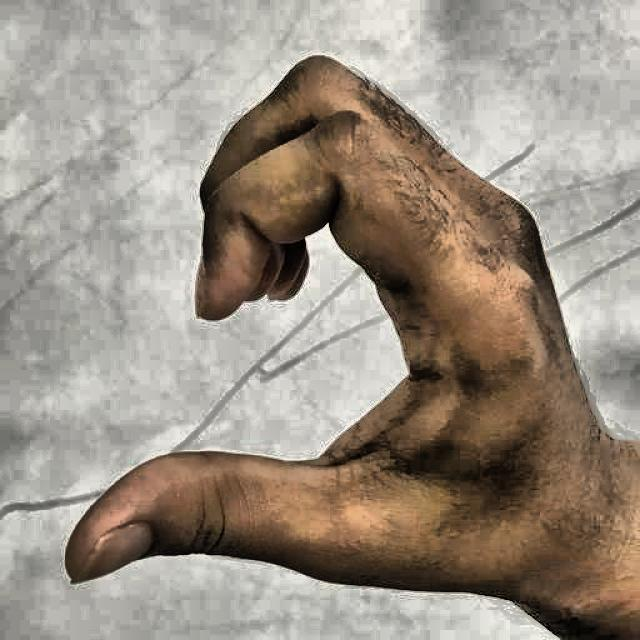Kha: (39, 21, 613, 626)
